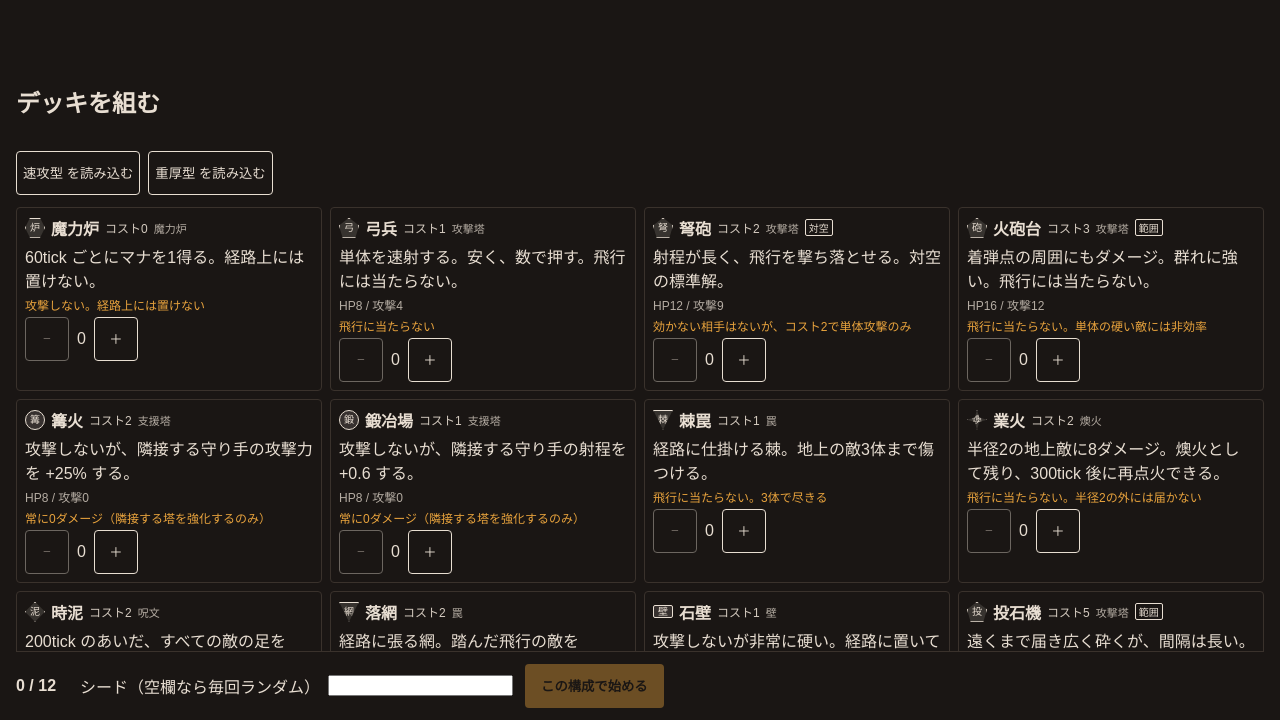
Test case: DeckBuilder › プリセットを読み込むと12枚になり開始できる
Click the button "速攻型 を読み込む" at (78, 173), box [16,151,140,195]
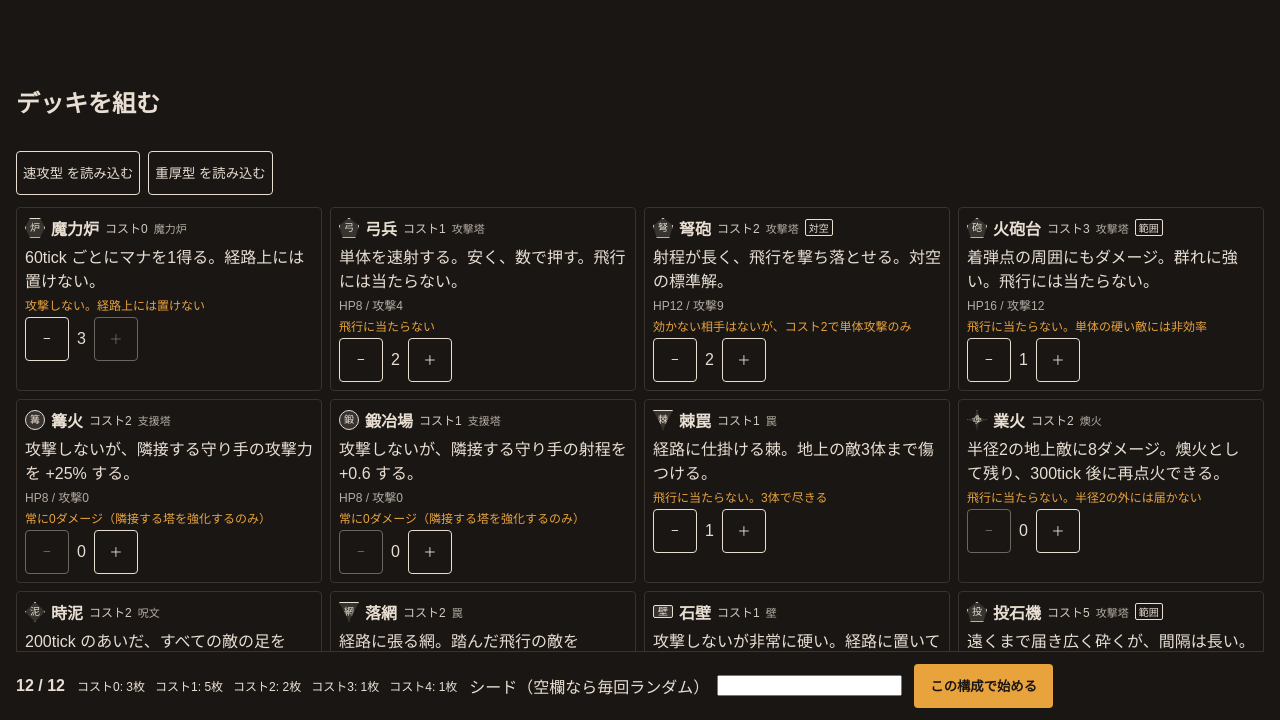
Now the button "この構成で始める" is enabled, box [914,664,1053,708]
